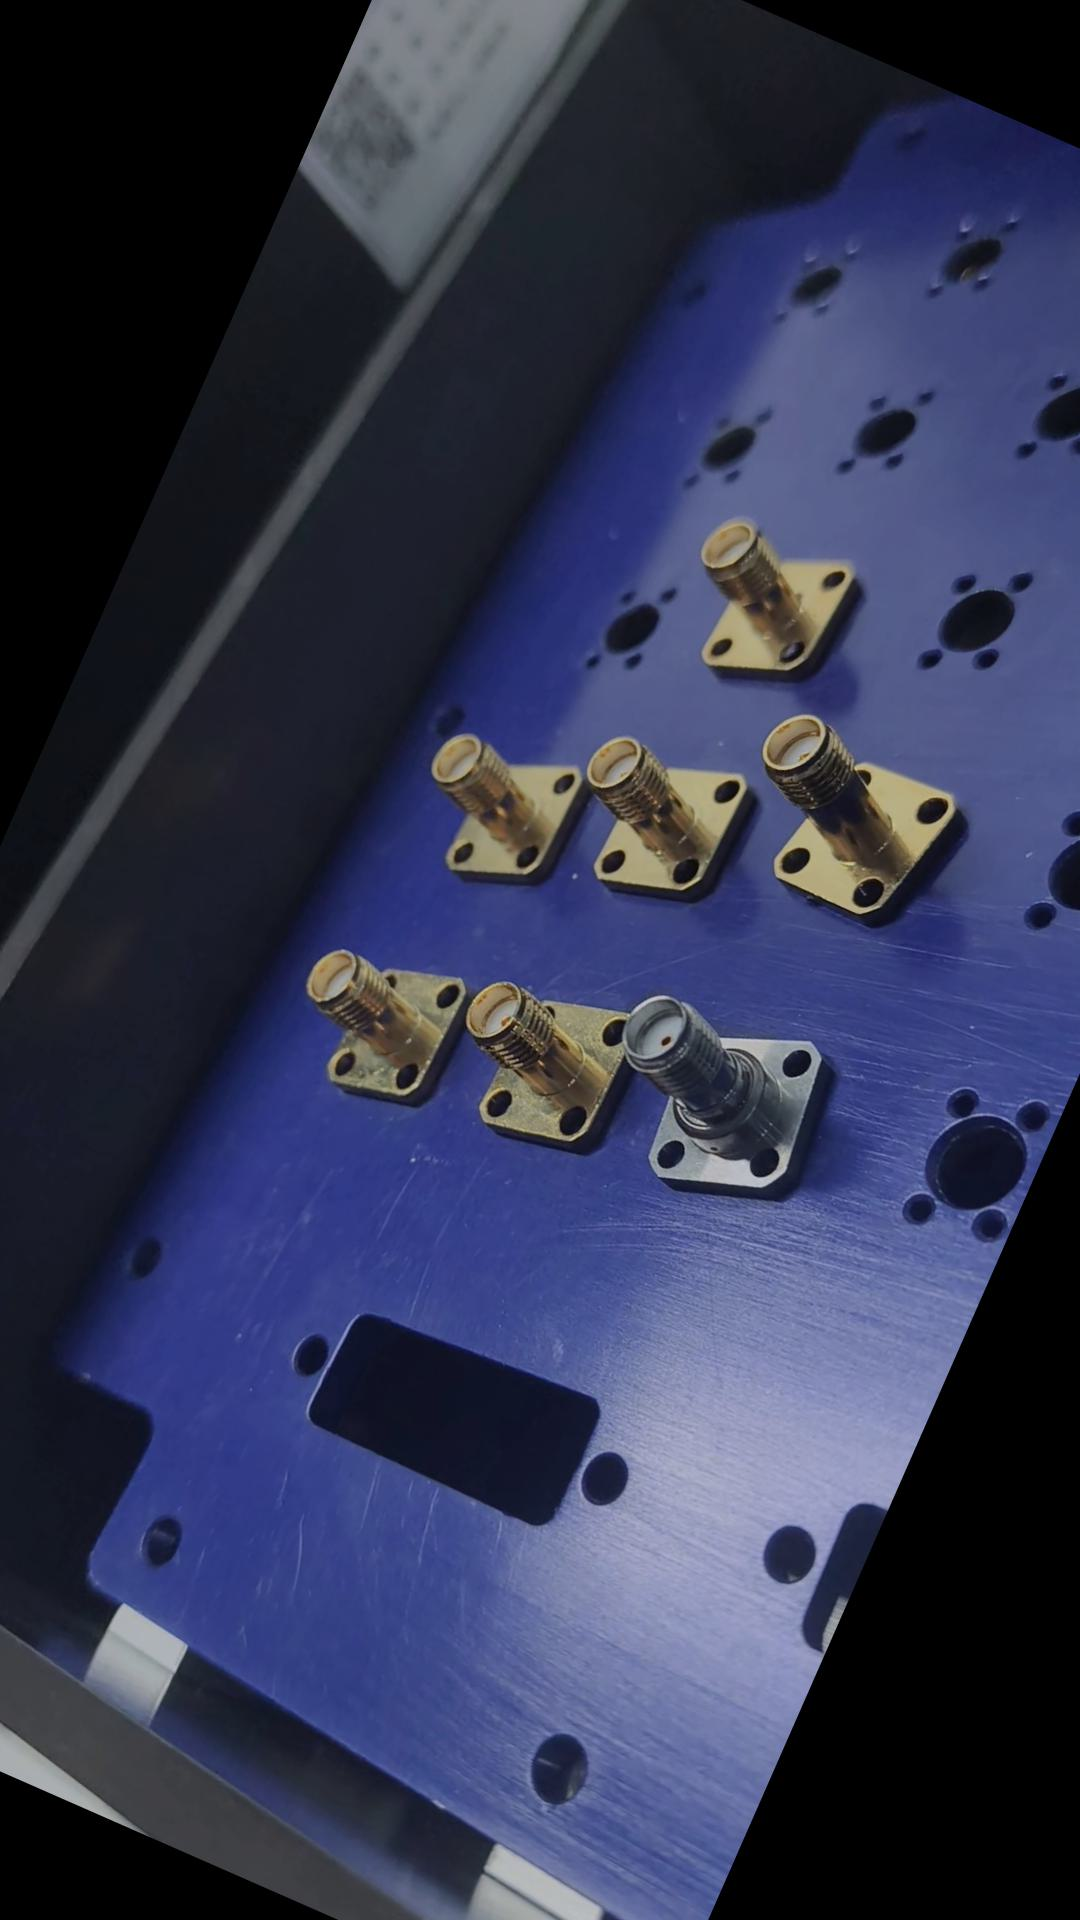SMA: (576, 971, 853, 1232), (716, 698, 977, 942), (429, 953, 645, 1168), (268, 916, 484, 1130), (543, 717, 760, 922), (659, 502, 869, 705), (394, 712, 596, 909)
